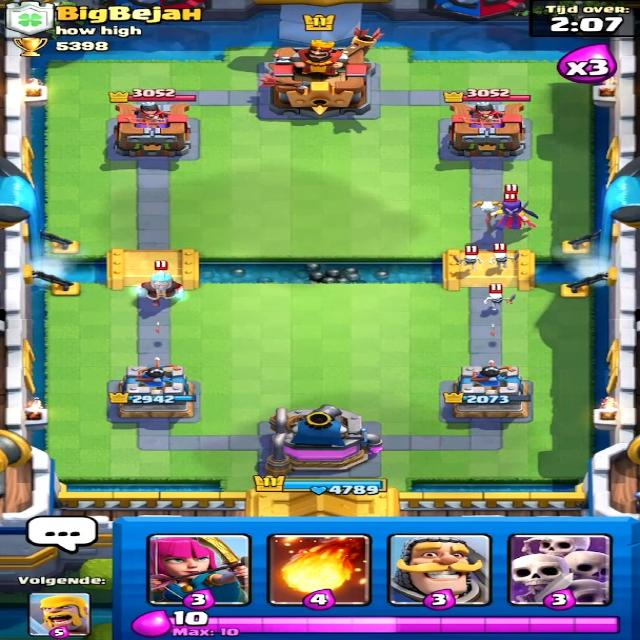Enemy_Ice_Wizard_Troop: (133, 270, 193, 309)
Enemy_Skeleton_Troop: (479, 288, 525, 316), (458, 250, 488, 274), (492, 250, 516, 268)
Enemy_Witch_Troop: (466, 198, 538, 238)
Fireball_Card: (274, 534, 372, 611)
